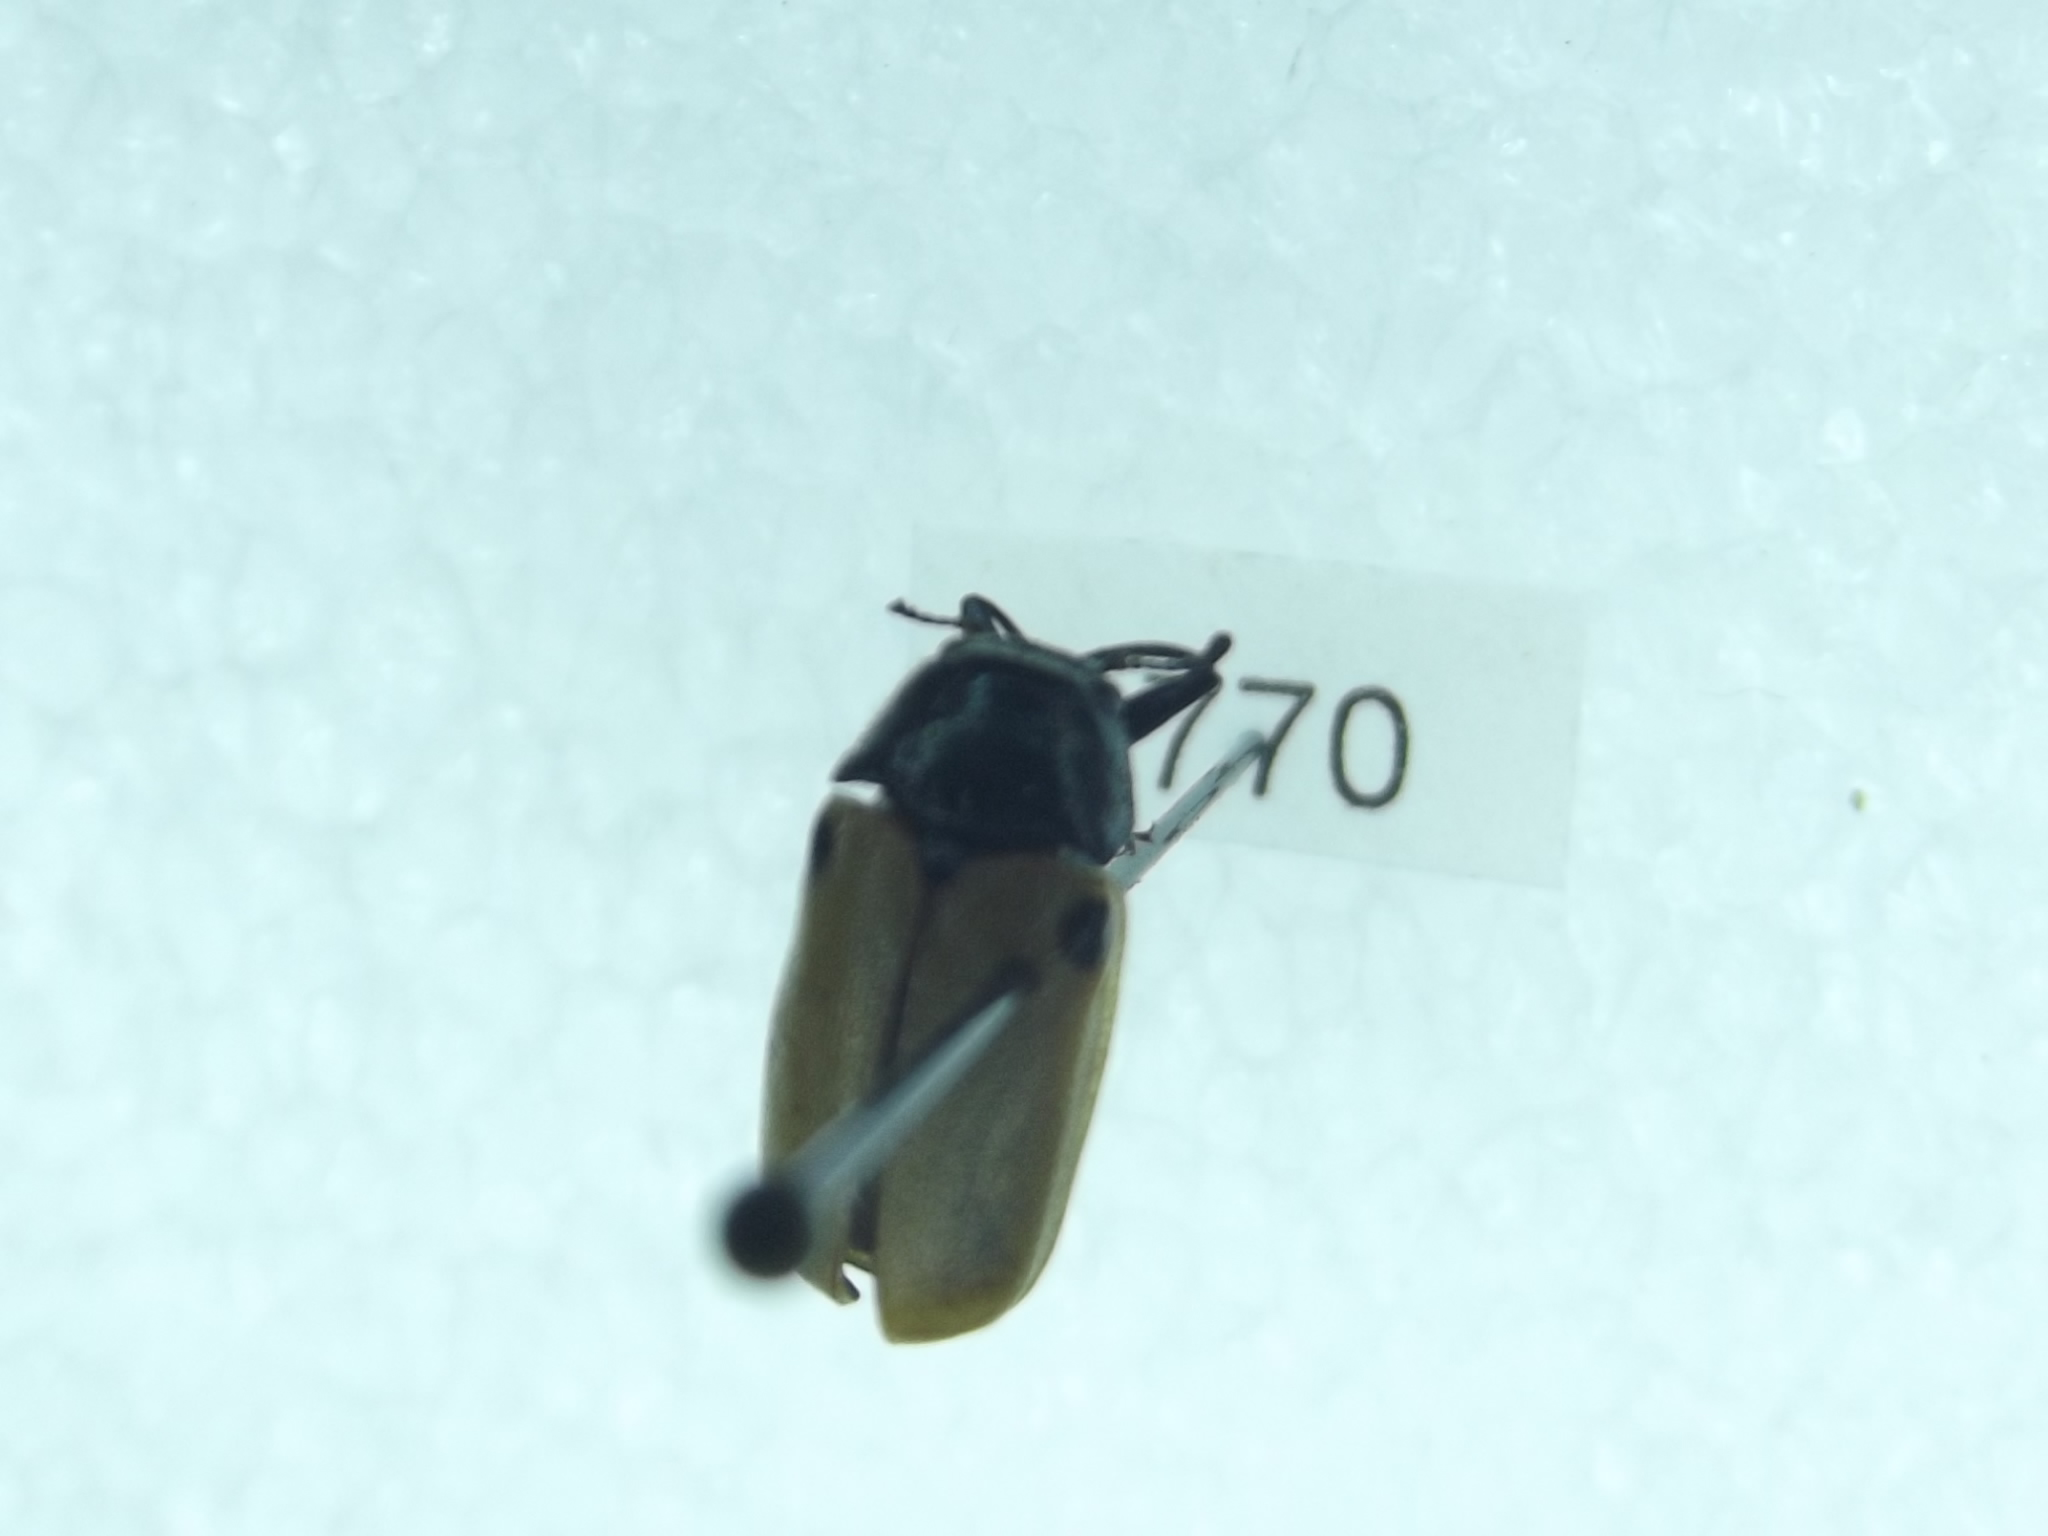Labidostomis_propinqua: (750, 568, 1245, 1359)
